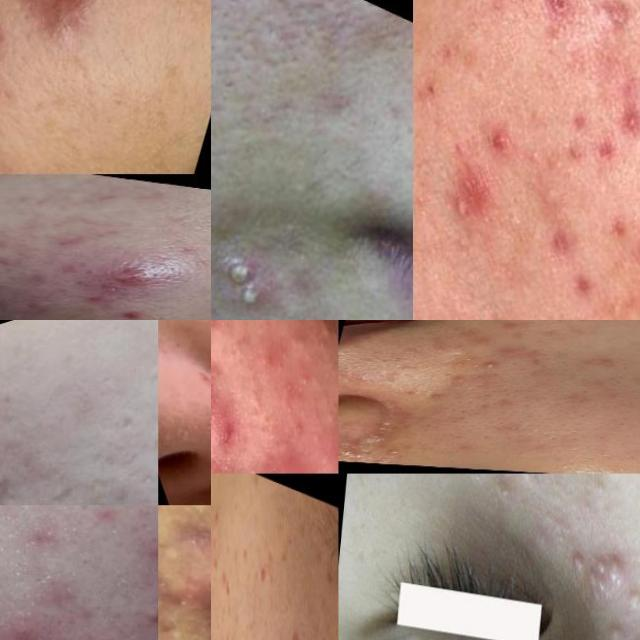acne_scars: (422, 142, 526, 260), (0, 459, 26, 505), (79, 280, 146, 296), (218, 560, 232, 605), (255, 552, 269, 596), (288, 615, 304, 640)
comedone: (130, 584, 158, 640), (363, 440, 422, 464), (465, 354, 516, 376), (149, 296, 191, 314)
cystic: (79, 242, 211, 289)
papule: (16, 0, 103, 52), (476, 116, 524, 166), (0, 611, 63, 640), (453, 328, 502, 348), (619, 576, 640, 619), (450, 474, 502, 491), (421, 389, 457, 407), (106, 307, 148, 320), (398, 347, 428, 360), (447, 373, 471, 386)
pustule: (211, 226, 296, 320), (190, 549, 211, 626), (565, 538, 589, 584), (604, 542, 628, 586), (587, 553, 609, 596), (603, 617, 629, 640), (500, 474, 537, 485)
